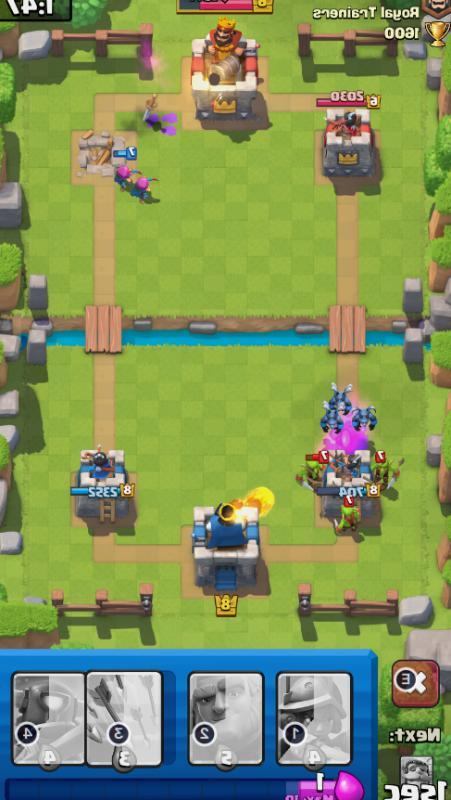enemy_goblins: (366, 450, 403, 496), (293, 447, 331, 487), (331, 492, 365, 535)
player_archers: (106, 149, 135, 188), (126, 169, 155, 208)
player_minions: (326, 381, 355, 411), (349, 404, 379, 432), (318, 404, 347, 431)
